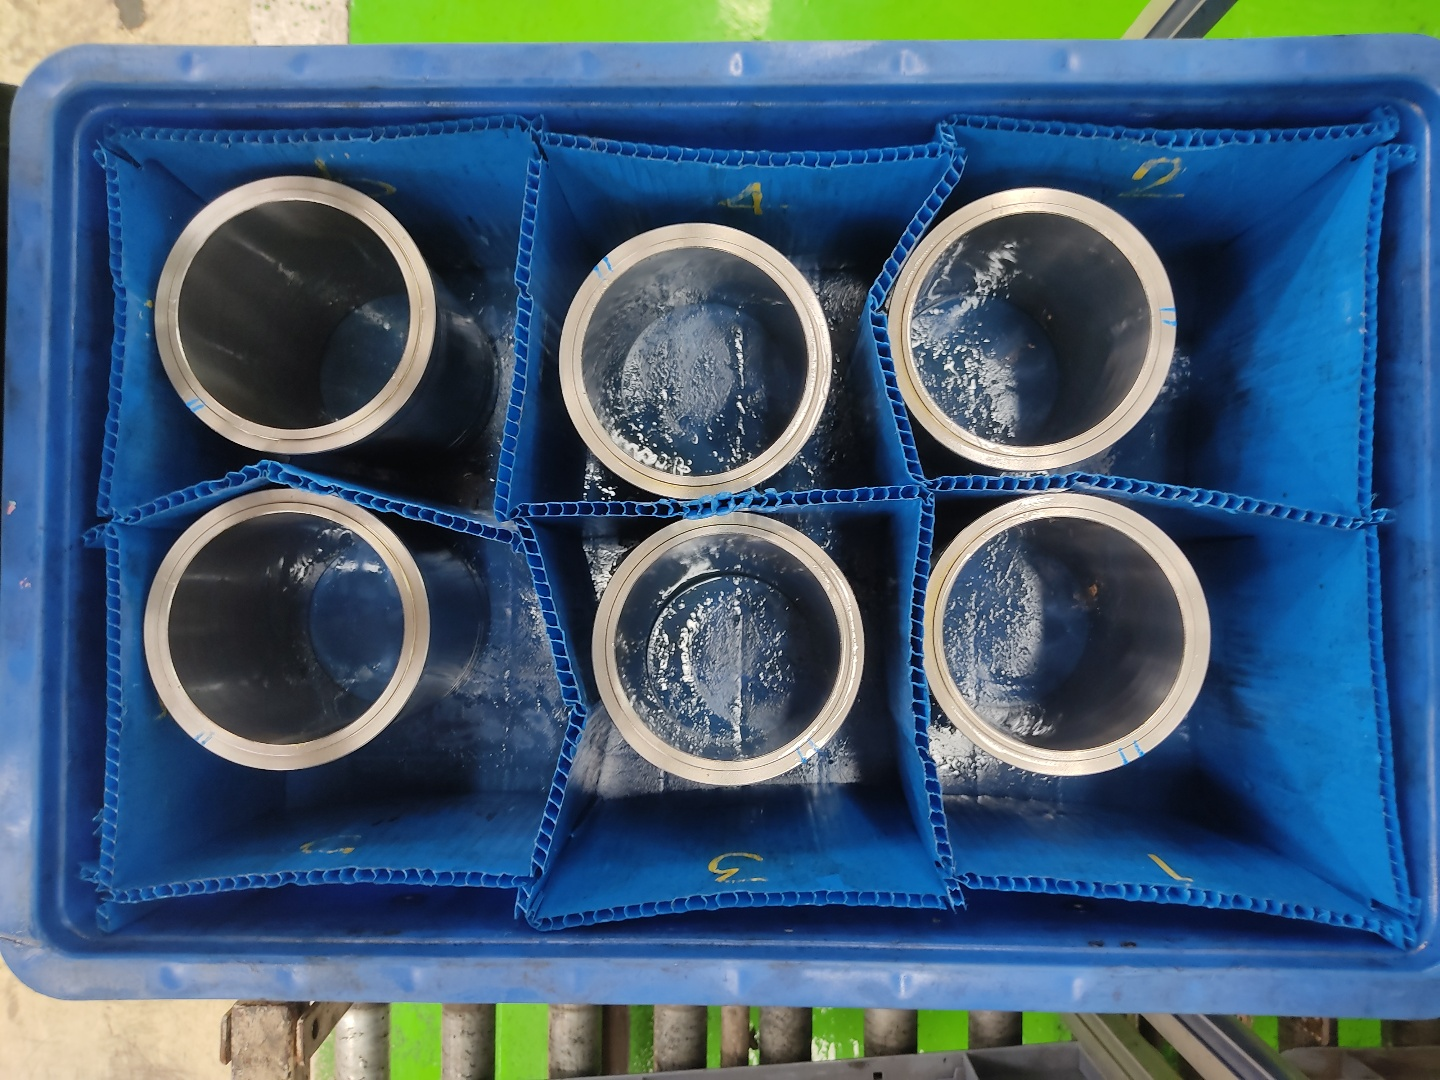cylinder: (886, 180, 1180, 476), (136, 483, 435, 773), (920, 490, 1217, 778), (149, 172, 439, 459), (553, 216, 838, 503), (588, 511, 869, 791)
